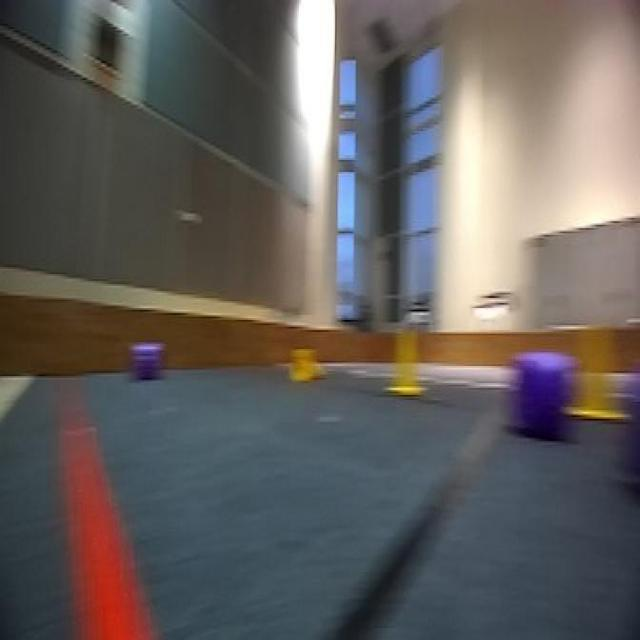frc_cone: (563, 323, 630, 419), (387, 322, 428, 396), (286, 340, 330, 390)
frc_cube: (510, 356, 570, 436), (133, 340, 159, 385)
